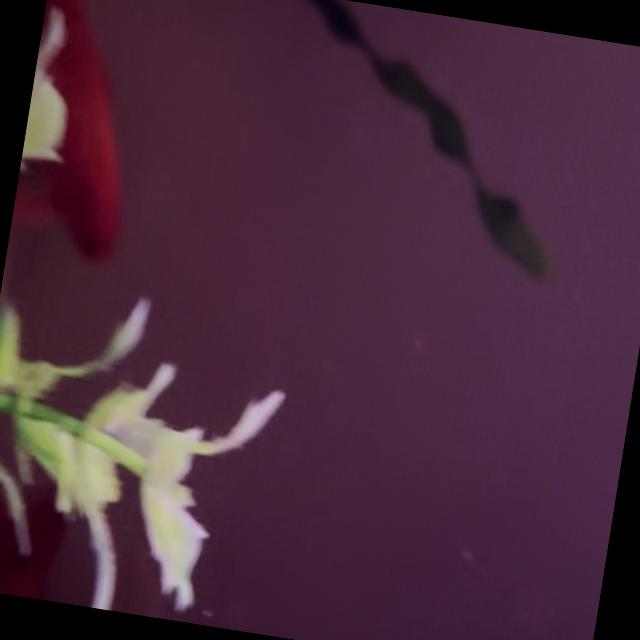fish: (10, 0, 159, 249), (0, 460, 73, 601)
